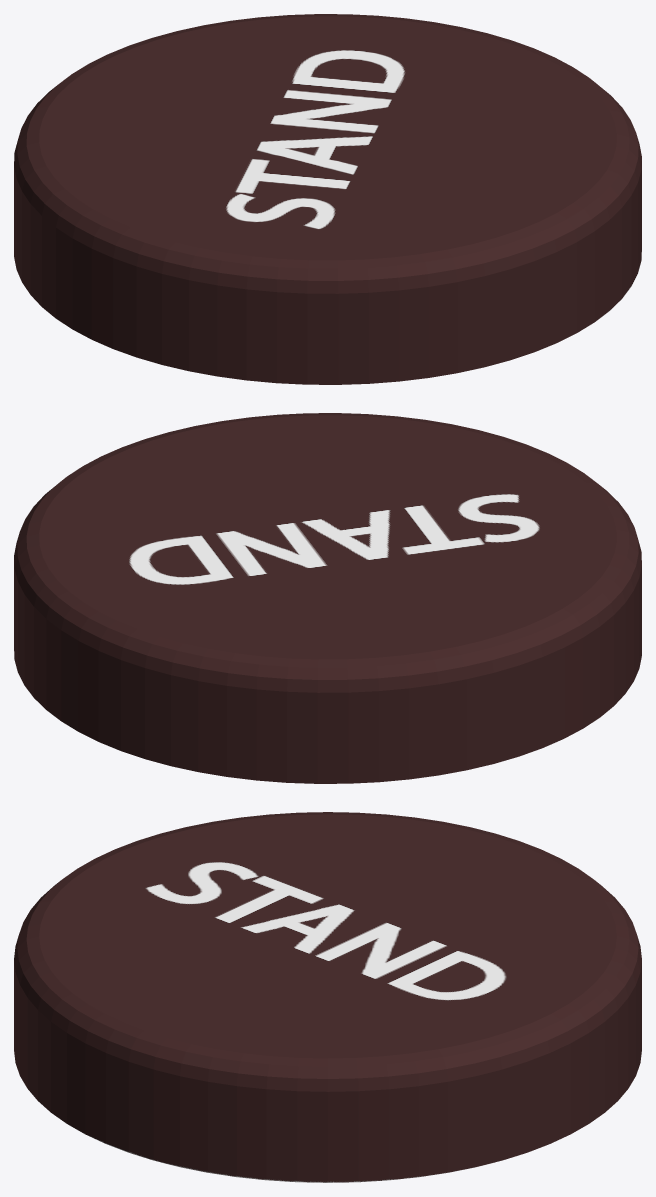
Rendered from Button_stand.gltf.
The picture shows the model from 3 angles, top to bottom: view 1: azimuth 30°, elevation 25°; view 2: azimuth 150°, elevation 25°; view 3: azimuth 270°, elevation 25°; orthographic projection.
Parts seen in each view (by area): view 1: Cylinder; view 2: Cylinder; view 3: Cylinder.
Boxes of the visible parts, <box> form: Cylinder: <box>14,14,641,384</box>; Cylinder: <box>14,413,641,783</box>; Cylinder: <box>14,812,641,1182</box>.
Size of the model in its own units: 0.1 by 0.02 by 0.1.
1 material, 1 textured.
